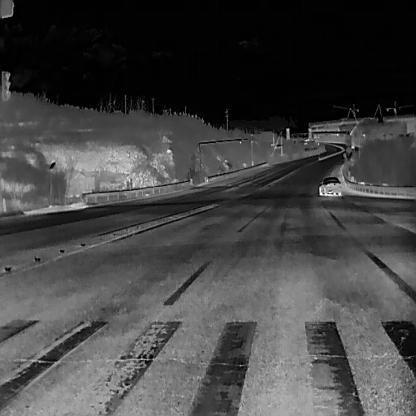car: (318, 175, 341, 195)
truck: (350, 140, 354, 148), (313, 138, 318, 142)
